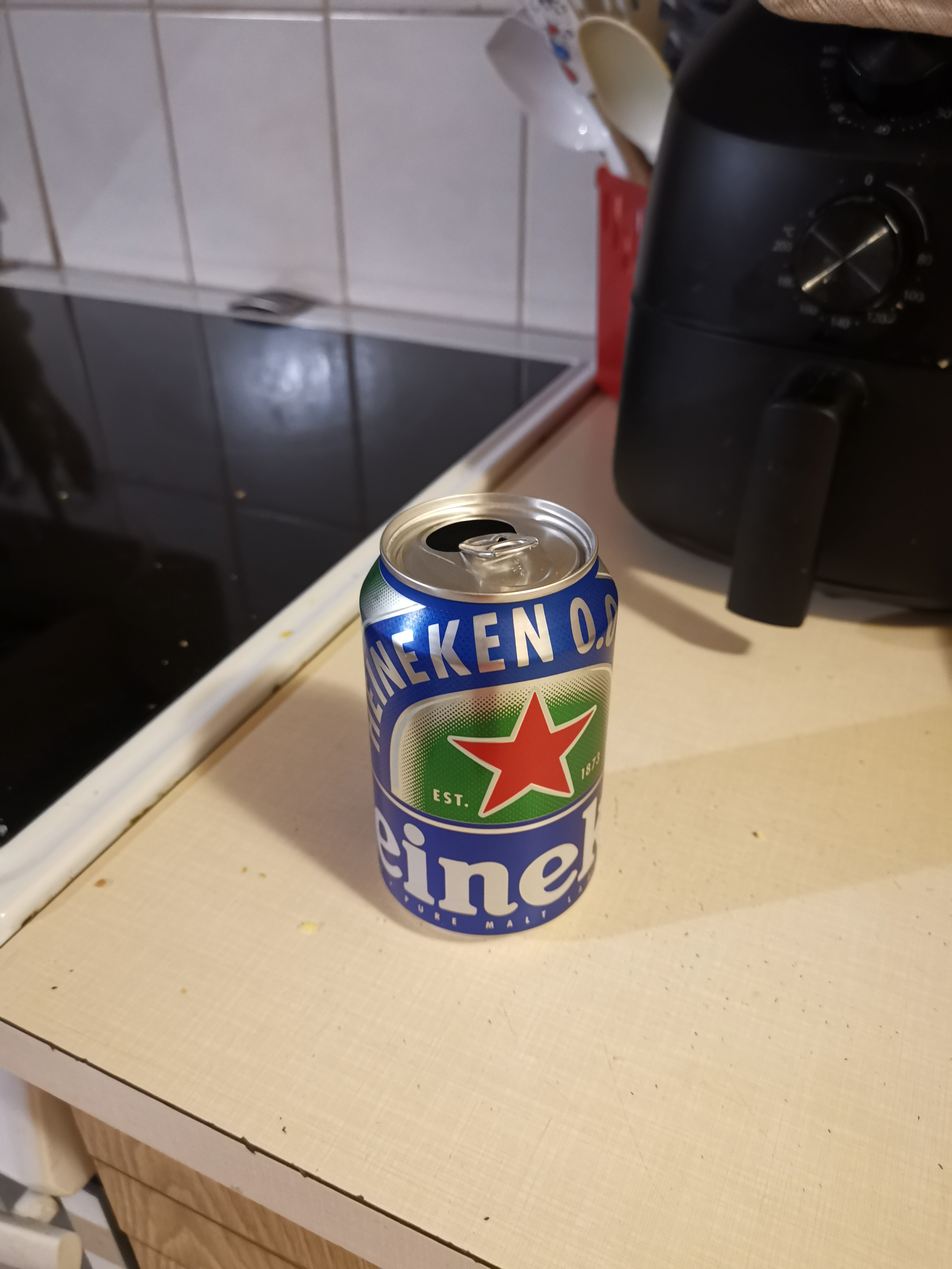Pantburk: (356, 488, 621, 939)
